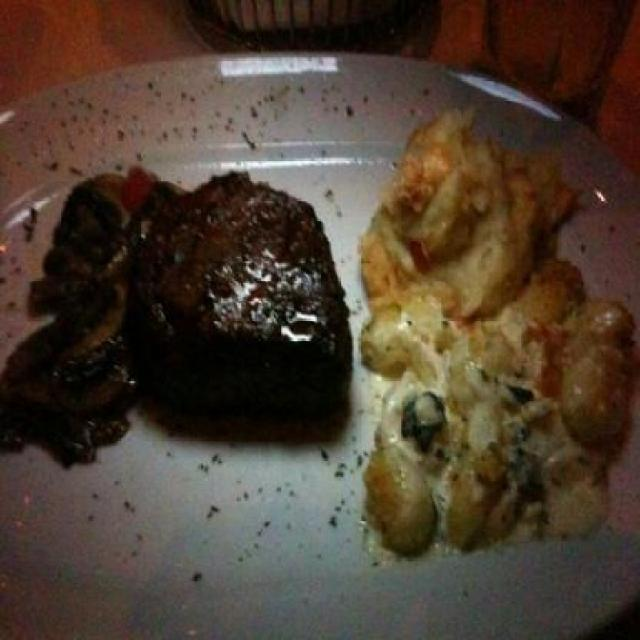Steak: (42, 156, 360, 482)
